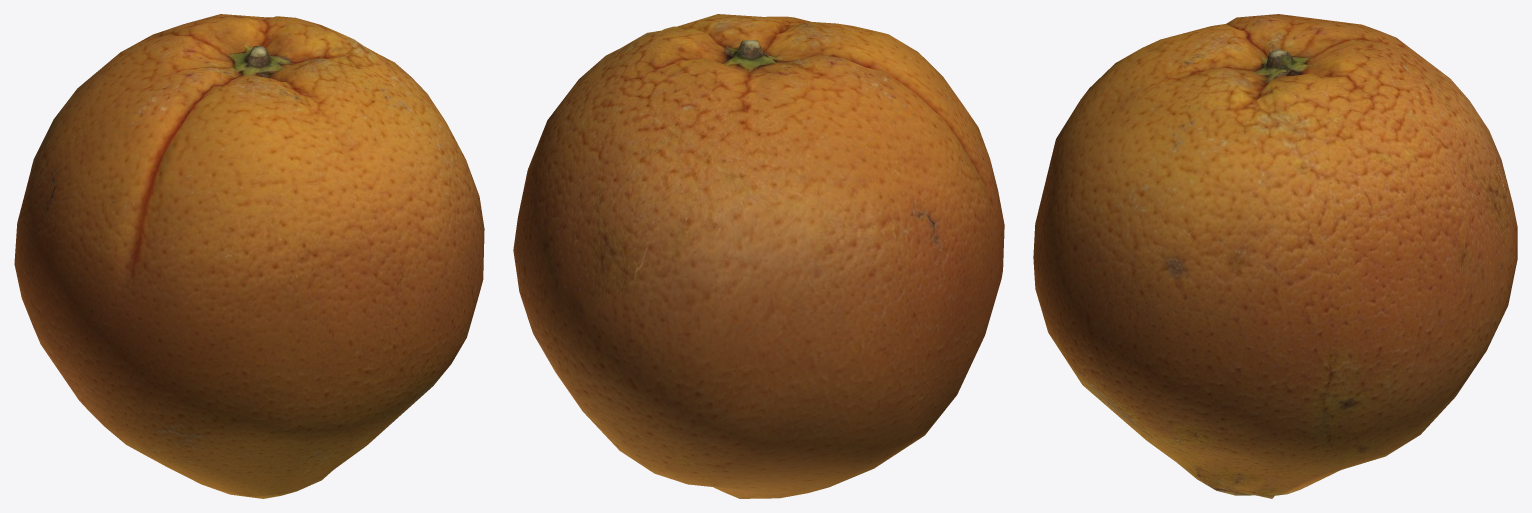
File: OrangeFruitOrange.fbx
3 renders of one model, left to right at view 1: azimuth 30°, elevation 25°; view 2: azimuth 150°, elevation 25°; view 3: azimuth 270°, elevation 25°, orthographic. The views are drawn at different scales.
Visible parts, largest first — view 1: Orange; view 2: Orange; view 3: Orange.
Boxes of the visible parts, <box> form: Orange: <box>14,14,484,498</box>; Orange: <box>513,14,1004,498</box>; Orange: <box>1033,14,1517,498</box>.
Size of the model in its own units: 0.1255 by 0.1286 by 0.1289.
Materials: 1 (1 with a texture image).
